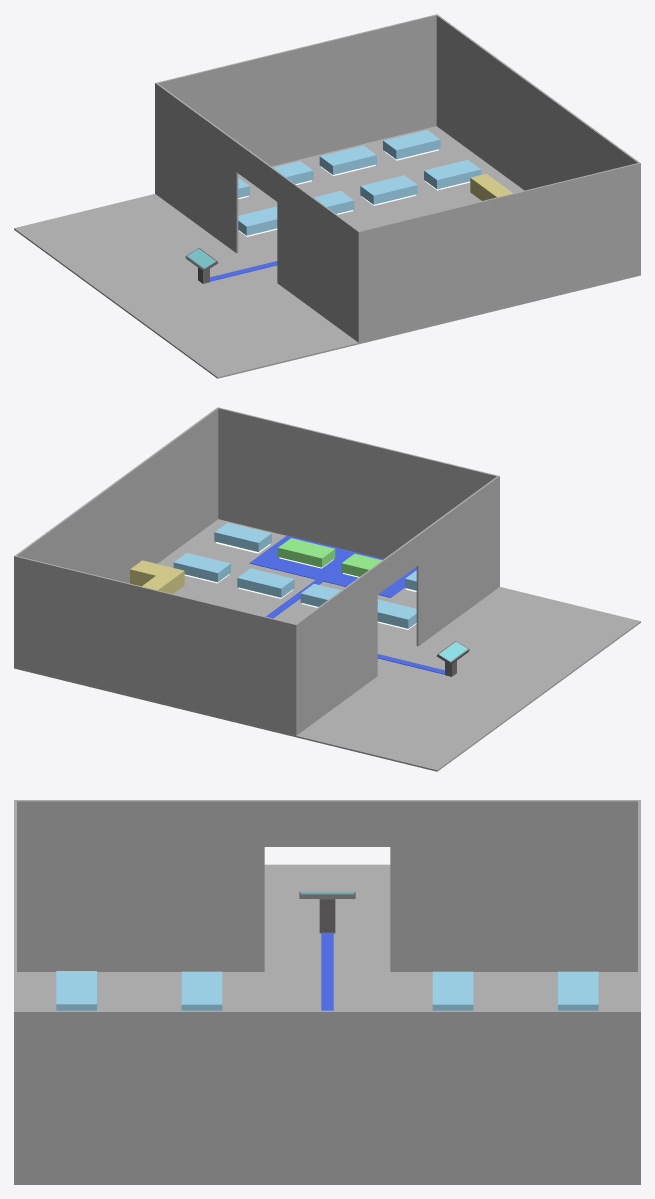
File: Storelayout.glb
The picture shows the model from 3 angles, top to bottom: view 1: azimuth 30°, elevation 25°; view 2: azimuth 150°, elevation 25°; view 3: azimuth 270°, elevation 25°; orthographic projection. The views are drawn at different scales.
Parts seen in each view (by area): view 1: floor/ground, wall, wall.001, frontwall, backwall, Basic.002, Basic.001, desk; view 2: floor/ground, wall.001, wall, frontwall, backwall, Basic.003, Product.003, goal, desk, path; view 3: backwall, frontwall, floor/ground, Basic.003, Basic.002, Basic.001, Product.003, wall, wall.001, path, stand.
Part boxes in pixels (box(x1,y1,x2,y2)): floor/ground: box(14, 126, 640, 378); wall: box(357, 162, 640, 342); wall.001: box(155, 14, 437, 193); frontwall: box(156, 83, 358, 341); backwall: box(436, 15, 639, 190); Basic.002: box(238, 160, 481, 236); Basic.001: box(238, 130, 440, 199); desk: box(470, 173, 512, 200); floor/ground: box(14, 519, 640, 771); wall.001: box(14, 555, 297, 735); wall: box(217, 407, 499, 586); frontwall: box(296, 476, 498, 734); backwall: box(15, 408, 218, 583); Basic.003: box(173, 553, 416, 629); Product.003: box(214, 522, 416, 592); goal: box(249, 535, 416, 597); desk: box(130, 560, 184, 593); path: box(266, 579, 444, 674); backwall: box(17, 1010, 637, 1182); frontwall: box(17, 800, 637, 971); floor/ground: box(14, 864, 640, 1184); Basic.003: box(181, 971, 222, 1010); Basic.002: box(432, 971, 473, 1010); Basic.001: box(558, 971, 598, 1010); Product.003: box(56, 971, 96, 1010); wall: box(14, 800, 16, 1182); wall.001: box(638, 800, 640, 1182); path: box(321, 932, 333, 1010); stand: box(319, 899, 335, 933).
Bounding box in the file's own units: 120 × 30.41 × 100.
